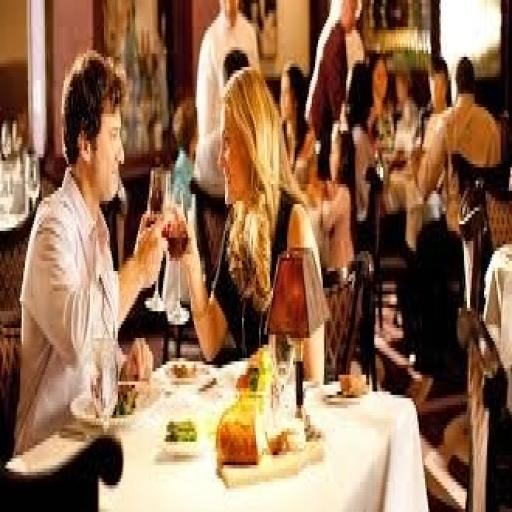eating: (12, 47, 176, 455), (161, 64, 332, 382)
